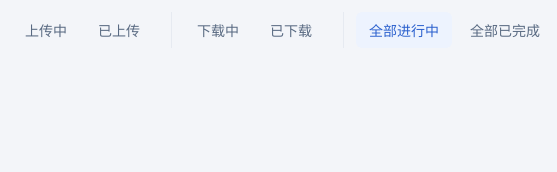
switches to the grouped dropdown when space is insufficient and preserves selection on expansion
Click the button "已上传" at (119, 30), box [85,12,153,48]
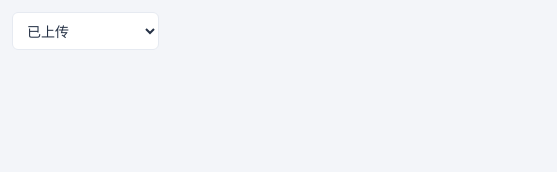
Expected: the dropdown named "传输分类" shows "已上传"
Expected: the button "上传中" is gone
Select "下载中" in the dropdown named "传输分类" at (86, 31), box [12,12,159,50]
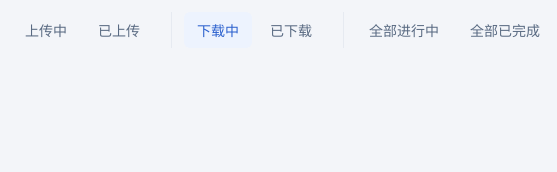
Expected: the dropdown is gone
